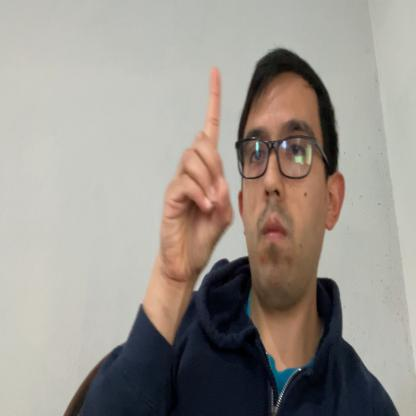D: (161, 64, 234, 288)
